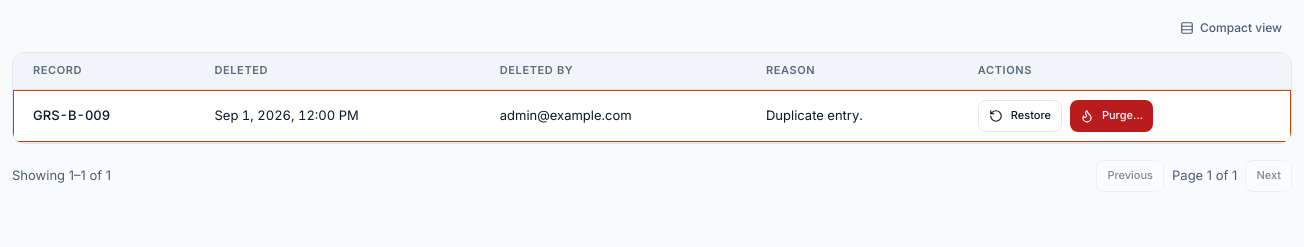
Test case: DeletedRecordsTable restore › restores a record, reloads the list and notifies the parent
Check: the text "GRS-B-009" is shown, box [33,107,110,123]
Click the button "Restore" at coordinates (1020, 116), box [978,100,1062,132]
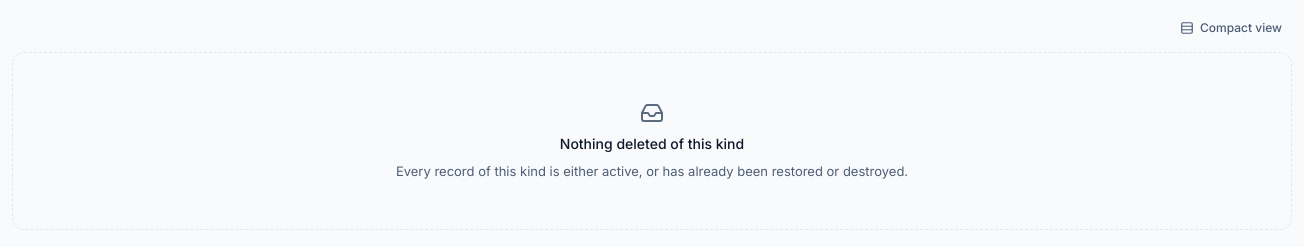
Check: the text "Nothing deleted of this kind" is shown, box [560,133,744,154]
